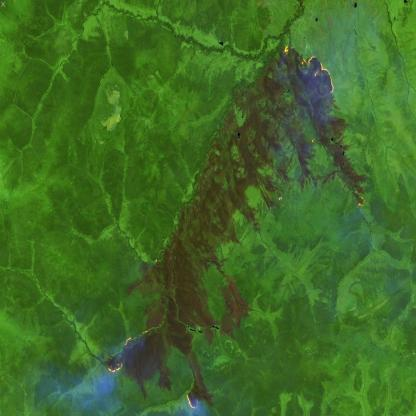fire: (282, 40, 336, 96), (106, 325, 154, 375), (182, 386, 201, 416), (350, 184, 369, 210)
